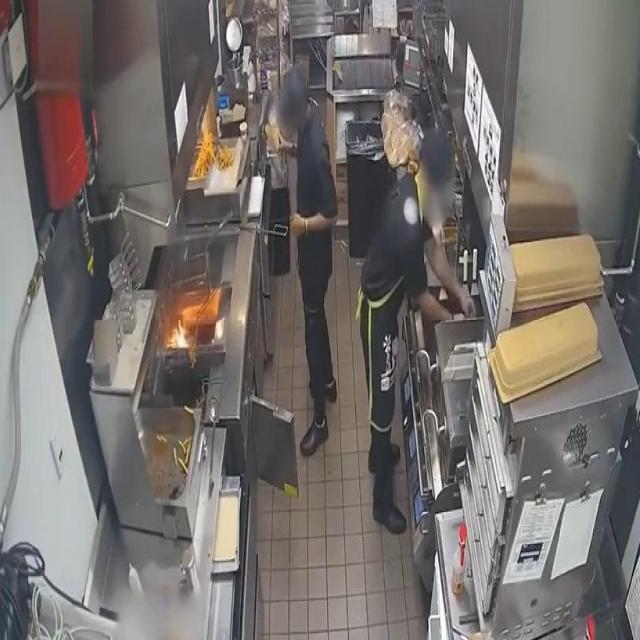smoke: (168, 318, 191, 349)
